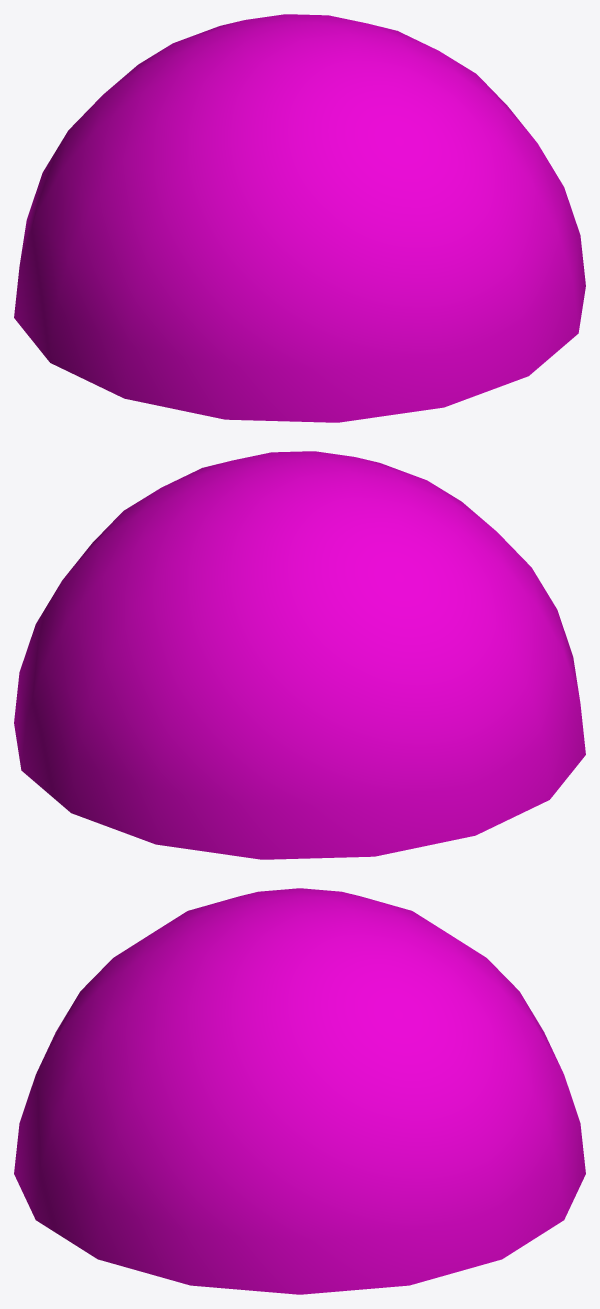
Rendered from Brain_Coral.fbx.
3 renders of one model, top to bottom at view 1: azimuth 30°, elevation 25°; view 2: azimuth 150°, elevation 25°; view 3: azimuth 270°, elevation 25°, orthographic.
Parts seen in each view (by area): view 1: brain coral; view 2: brain coral; view 3: brain coral.
Part boxes in pixels (x1,y1,x2,y2): brain coral: (14, 14, 585, 422); brain coral: (14, 451, 585, 859); brain coral: (14, 888, 585, 1294).
Size of the model in its own units: 0.8758 by 0.4379 by 0.8758.
